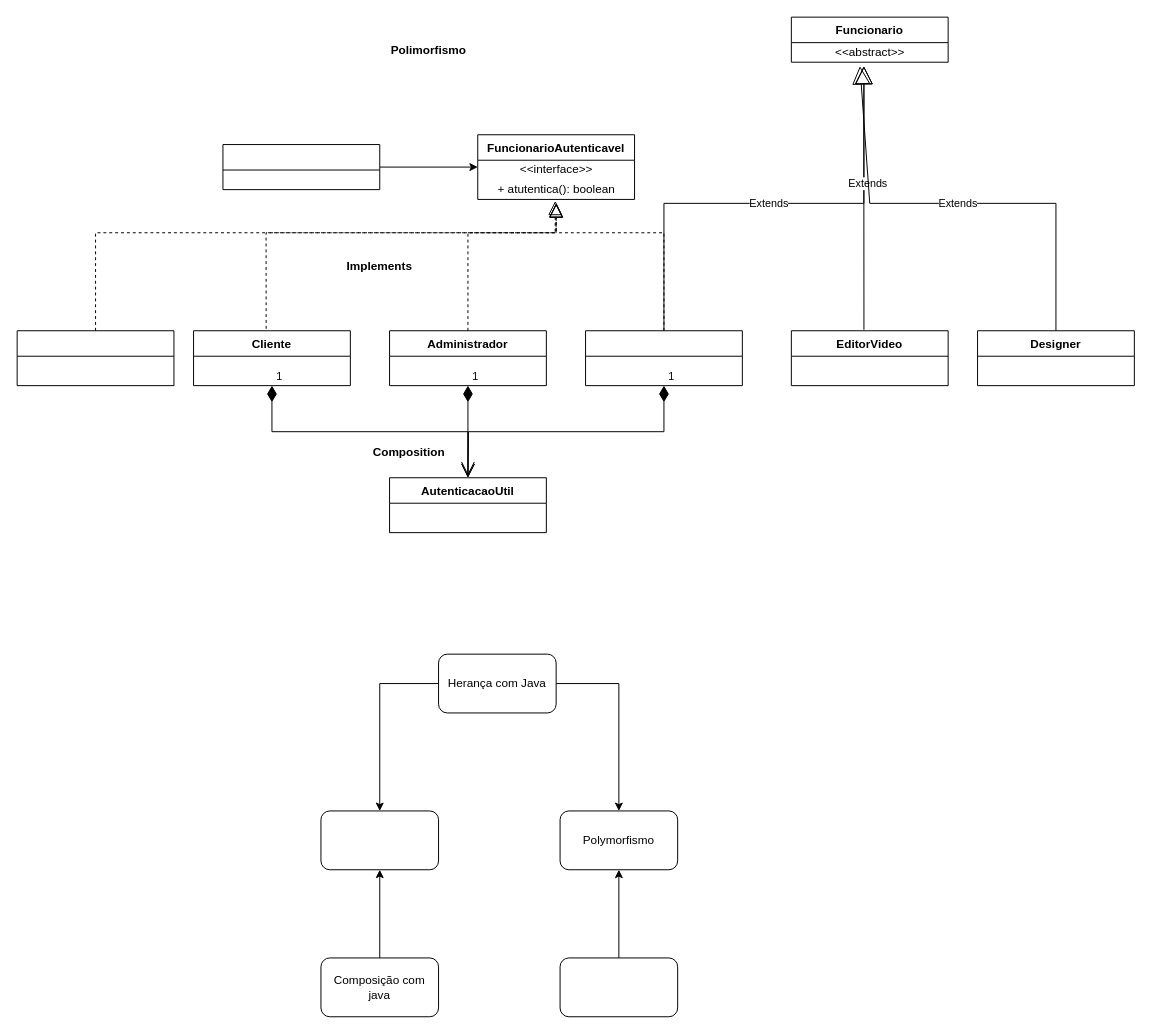
The diagram is 1152 pixels wide and 1034 high, and some of its shapes have lost their labels. Each missing label, with the centre of its shape:
Fiscal: pixel 95 358
Gerente: pixel 663 358
Interfaces com Java: pixel 618 987
Reutilização de Código: pixel 379 840
SistemanInterno: pixel 301 167
